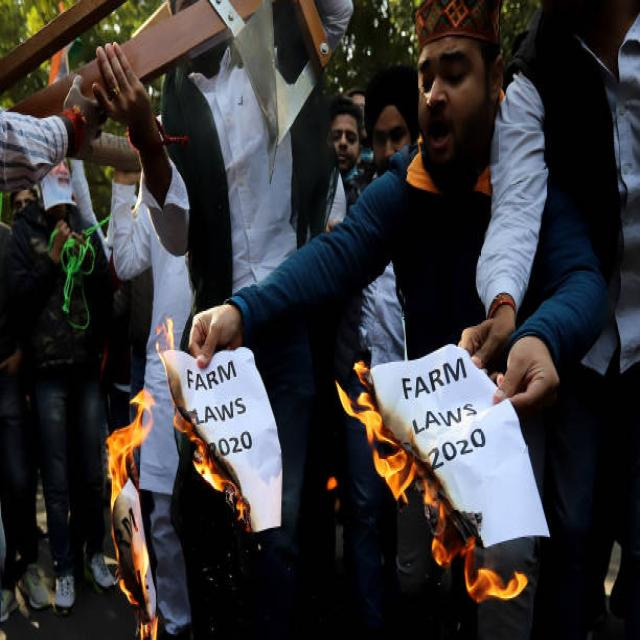fire: (336, 381, 400, 447), (373, 447, 425, 504), (465, 567, 528, 603), (127, 388, 155, 448), (424, 478, 452, 535), (157, 350, 183, 410), (432, 536, 475, 567)
